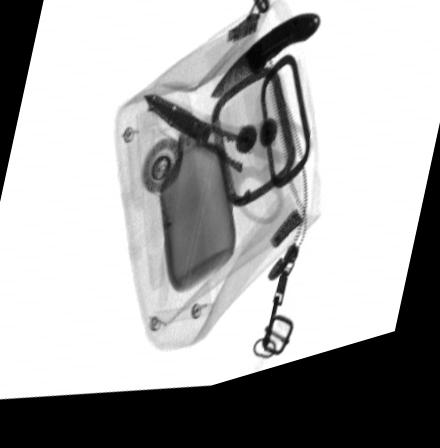Knife: (208, 29, 321, 111)
Scissors: (142, 102, 312, 239)
